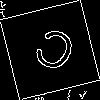C: (25, 25, 80, 83)
